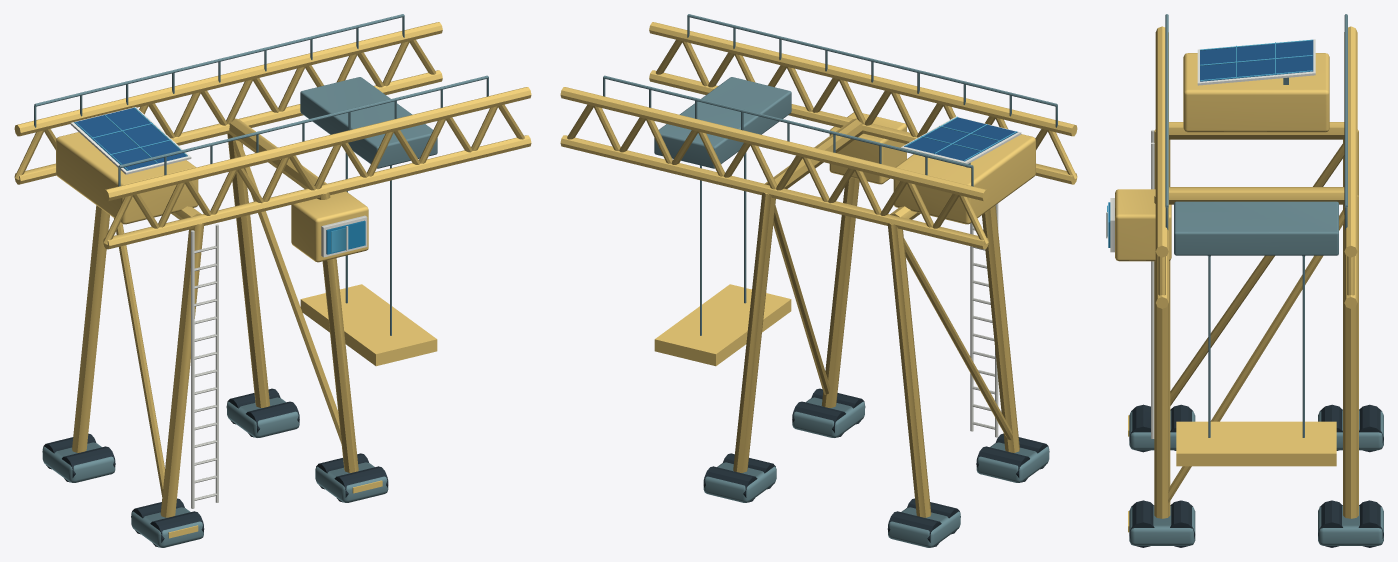
The model's file is harbor-crane.glb.
The picture shows the model from 3 angles, left to right: view 1: azimuth 30°, elevation 25°; view 2: azimuth 150°, elevation 25°; view 3: azimuth 270°, elevation 25°; orthographic projection. The views are drawn at different scales.
Parts seen in each view (by area): view 1: gantry column, gantry feet, white frame, gantry wheels, photovoltaic cells, reflection, blue glazing; view 2: gantry column, gantry feet, gantry wheels, photovoltaic cells, white frame; view 3: gantry column, gantry feet, gantry wheels, photovoltaic cells, white frame, reflection.
Part boxes in pixels (box(x1,y1,x2,y2)): gantry column: box(14, 22, 531, 538); gantry feet: box(34, 14, 488, 547); white frame: box(70, 107, 367, 508); gantry wheels: box(42, 388, 388, 547); photovoltaic cells: box(74, 108, 187, 170); reflection: box(74, 107, 346, 252); blue glazing: box(326, 220, 365, 254); gantry column: box(560, 22, 1077, 517); gantry feet: box(603, 14, 1057, 547); gantry wheels: box(703, 388, 1049, 547); photovoltaic cells: box(904, 117, 1017, 161); white frame: box(900, 116, 1021, 437); gantry column: box(1115, 26, 1358, 532); gantry feet: box(1129, 14, 1383, 545); gantry wheels: box(1129, 404, 1383, 547); photovoltaic cells: box(1200, 40, 1313, 81); white frame: box(1106, 39, 1315, 438); reflection: box(1107, 39, 1312, 236).
Size of the model in its own units: 5.53 by 4.72 by 2.95.
